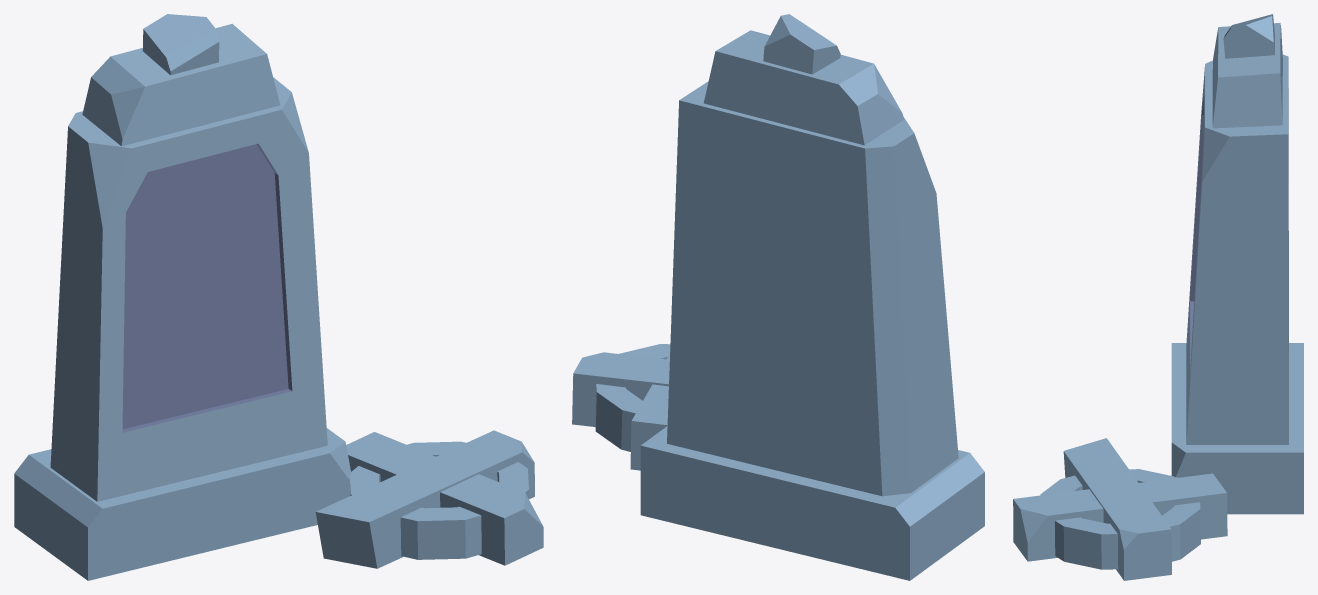
The model's file is Toombstone_08.fbx.
The picture shows the model from 3 angles, left to right: view 1: azimuth 30°, elevation 25°; view 2: azimuth 150°, elevation 25°; view 3: azimuth 270°, elevation 25°; orthographic projection. The views are drawn at different scales.
Visible parts, largest first — view 1: Toombstone 8; view 2: Toombstone 8; view 3: Toombstone 8.
Boxes of the visible parts, x1,y1,x2,y2 form: Toombstone 8: (14, 14, 543, 580); Toombstone 8: (572, 14, 984, 580); Toombstone 8: (1013, 14, 1303, 580).
Bounding box in the file's own units: 157 × 177 × 105.
